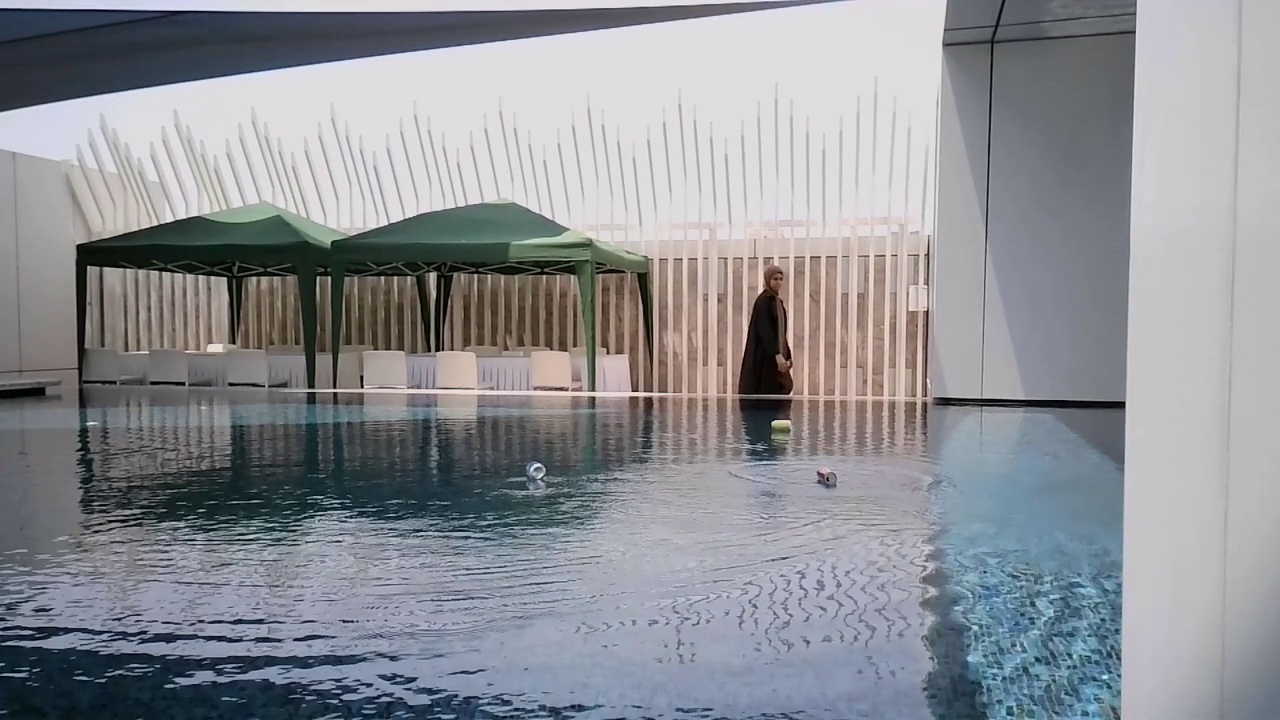debris: (814, 464, 840, 491), (522, 457, 547, 482), (769, 418, 793, 436)
